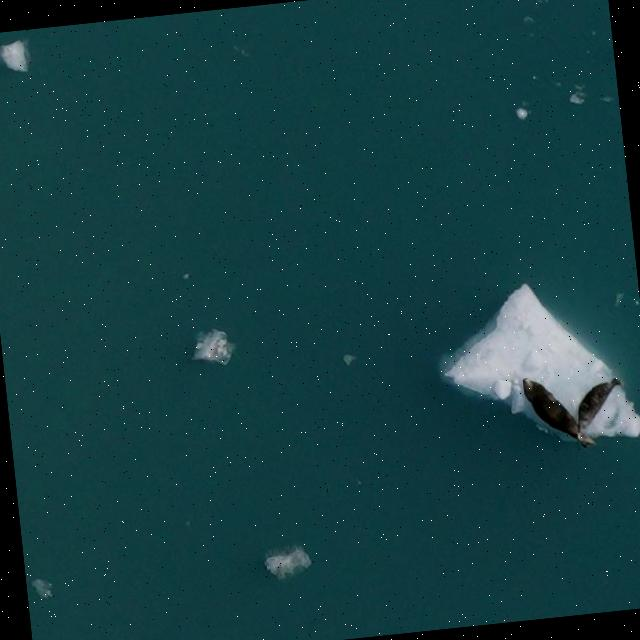seal: (512, 371, 598, 461), (567, 367, 623, 430)
